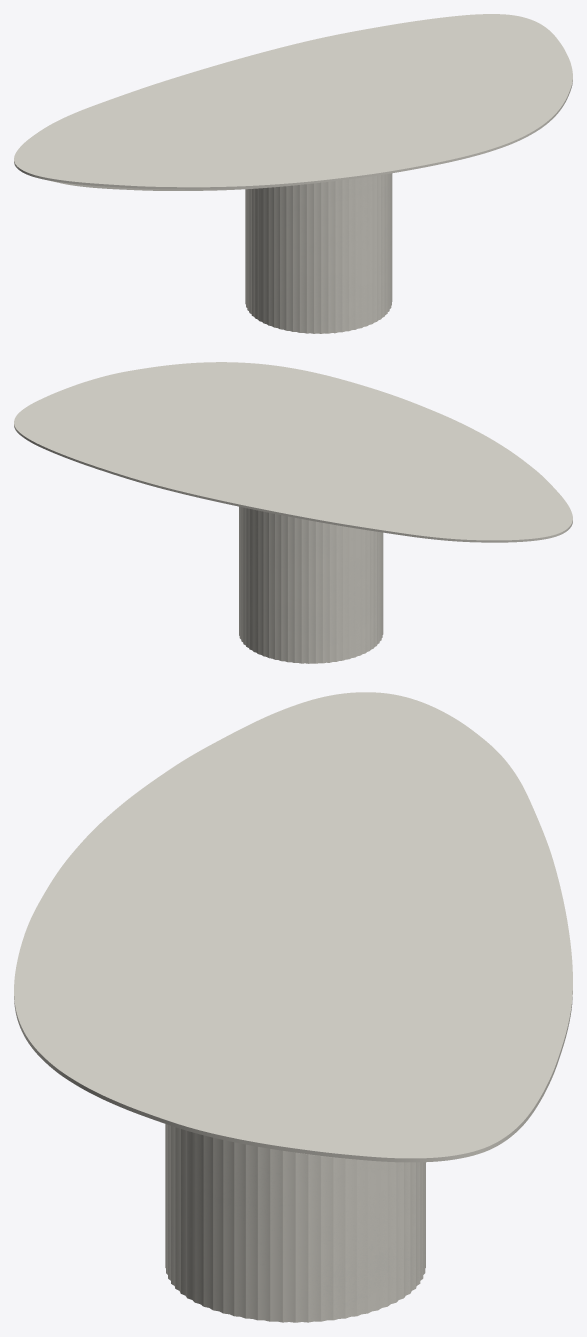
File: pale_pebbletop_facet_ripple.glb
The picture shows the model from 3 angles, top to bottom: view 1: azimuth 30°, elevation 25°; view 2: azimuth 150°, elevation 25°; view 3: azimuth 270°, elevation 25°; orthographic projection. The views are drawn at different scales.
Visible parts, largest first — view 1: facet_pebbletop, ripple; view 2: facet_pebbletop, ripple; view 3: facet_pebbletop, ripple.
Part boxes in pixels (bbox=[...]): facet_pebbletop: bbox=[14, 14, 572, 190]; ripple: bbox=[245, 173, 392, 333]; facet_pebbletop: bbox=[14, 362, 572, 542]; ripple: bbox=[239, 506, 383, 663]; facet_pebbletop: bbox=[14, 692, 572, 1162]; ripple: bbox=[165, 1124, 425, 1322].
Bounding box in the file's own units: 7.5 × 2.5 × 3.8.
1 material, 1 textured.
